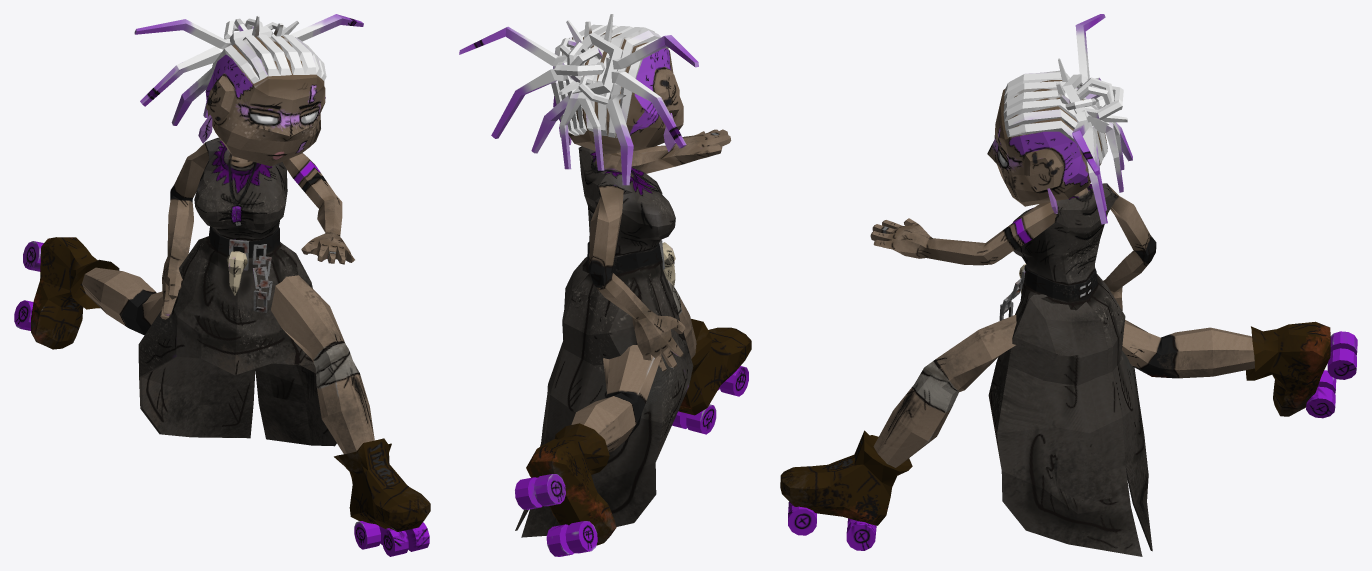
File: bruja_000034.obj
3 renders of one model, left to right at view 1: azimuth 30°, elevation 25°; view 2: azimuth 150°, elevation 25°; view 3: azimuth 270°, elevation 25°, orthographic. The views are drawn at different scales.
Parts seen in each view (by area): view 1: Bruja_Plane.001; view 2: Bruja_Plane.001; view 3: Bruja_Plane.001.
Part boxes in pixels (x1,y1,x2,y2): Bruja_Plane.001: (14,14,430,556); Bruja_Plane.001: (459,14,751,556); Bruja_Plane.001: (780,14,1357,556).
Bounding box in the file's own units: 7.72 × 14.54 × 15.96.
